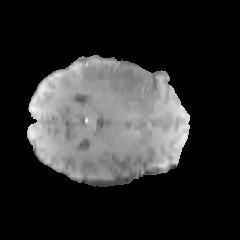glioma: (80, 58, 157, 105)
